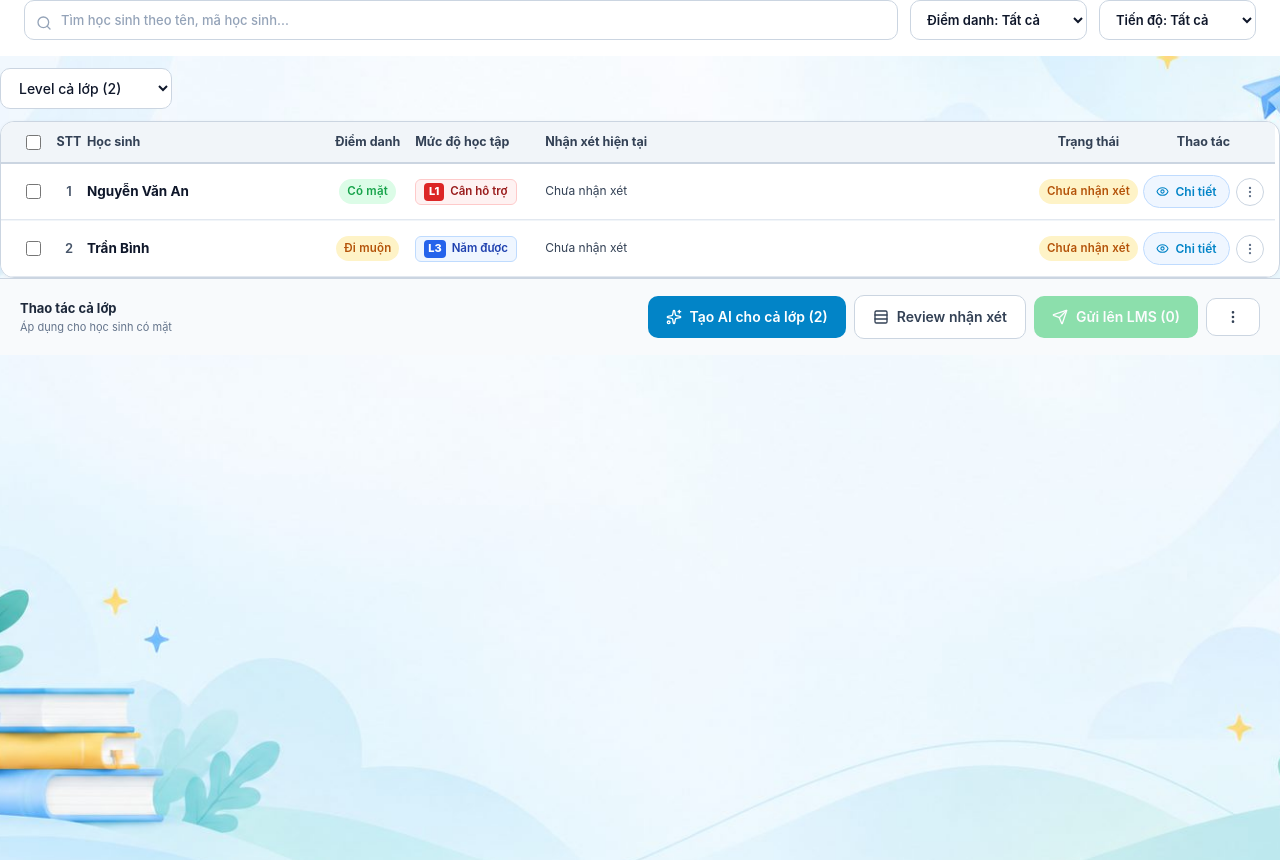
Scenario: regular assessment workspace › shows inherited/default indicators and loads inherited level without its old note
Click the button "Nguyễn Văn An" at coordinates (138, 191), box x1=1 y1=164 x2=1275 y2=220
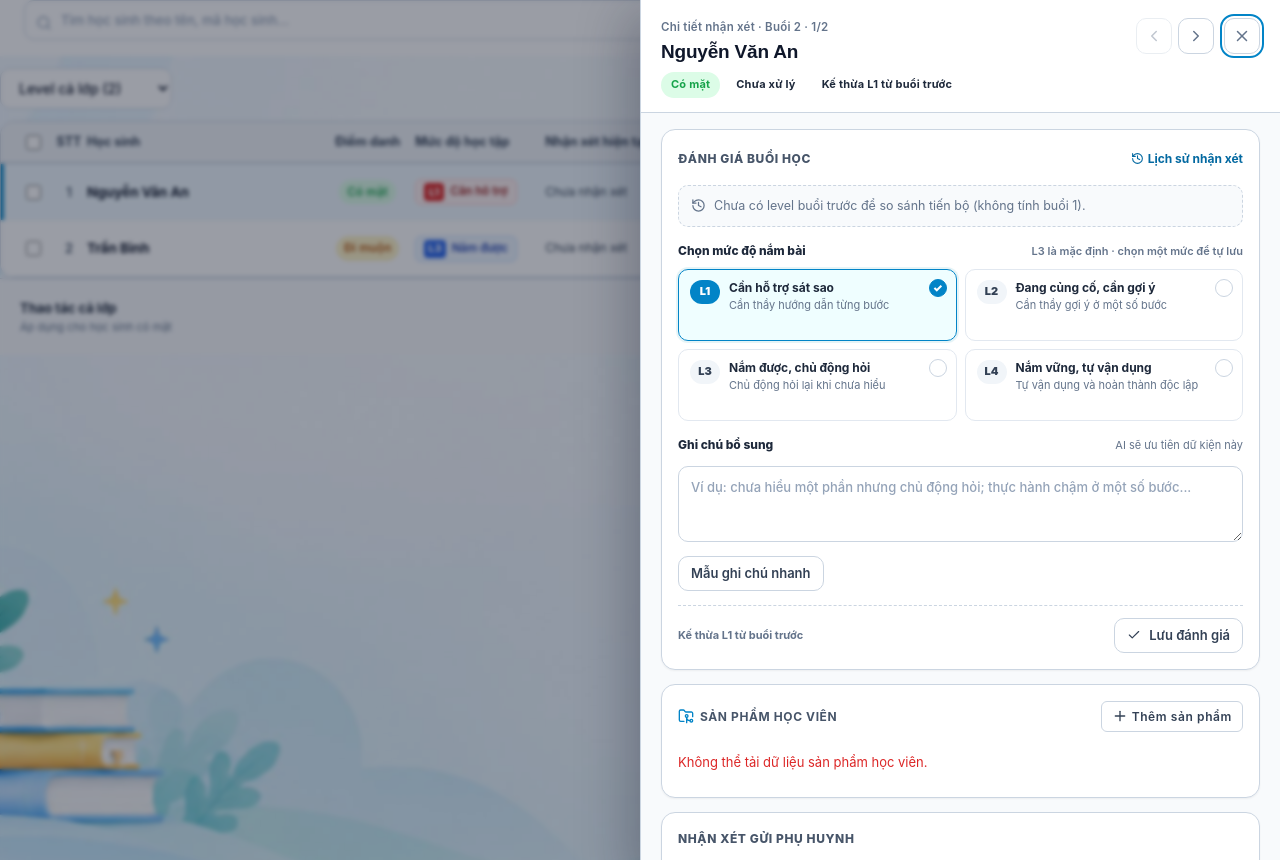
Expected: the text "Kế thừa L1 từ buổi trước" is shown 2 times, x1=822 y1=77 x2=952 y2=91; x1=678 y1=628 x2=803 y2=642
Expected: the text box labelled "Ghi chú bổ sung" is empty, x1=678 y1=466 x2=1243 y2=542
Click the button named "Học sinh tiếp theo" at coordinates (1196, 36), box x1=1178 y1=18 x2=1214 y2=54
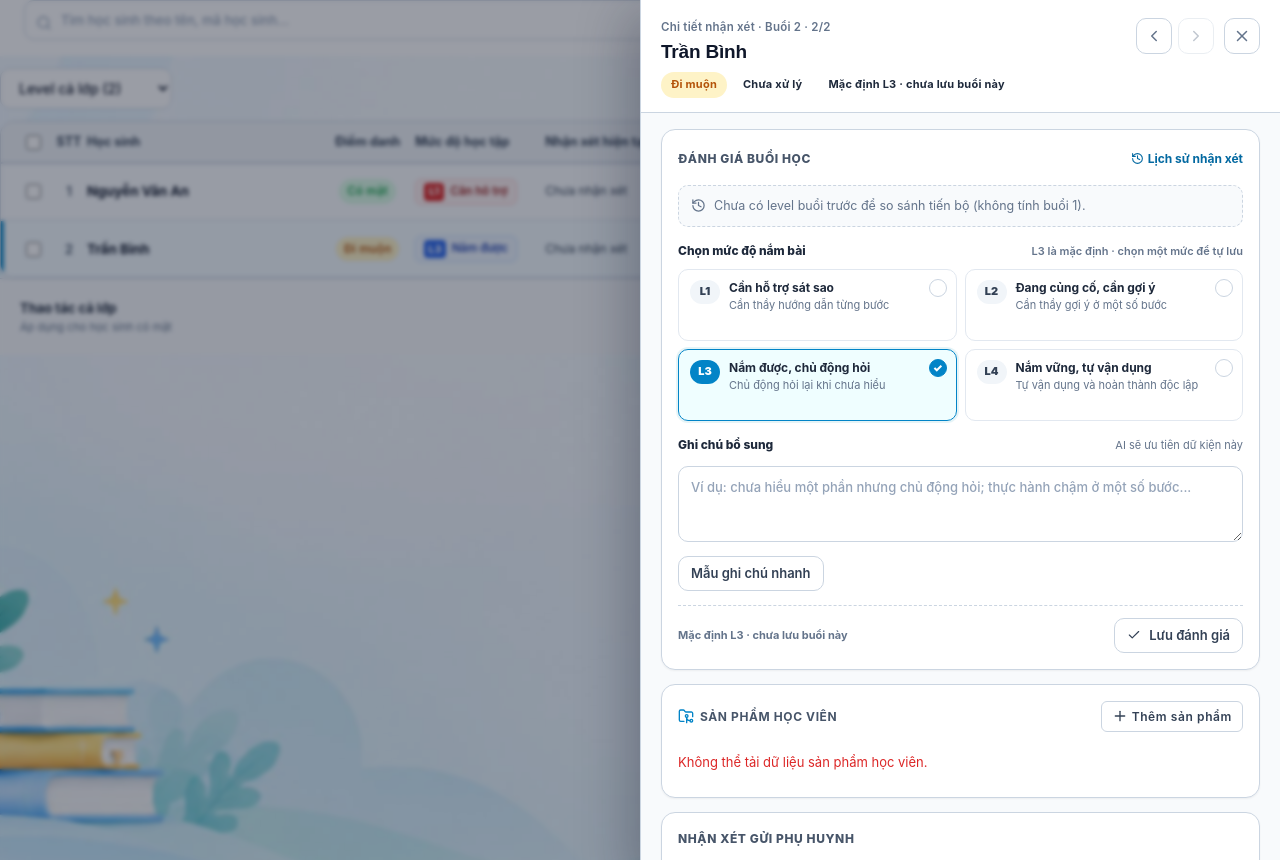
Expected: the dialog "Trần Bình" shows "Mặc định L3 · chưa lưu buổi này", x1=828 y1=77 x2=1005 y2=91
